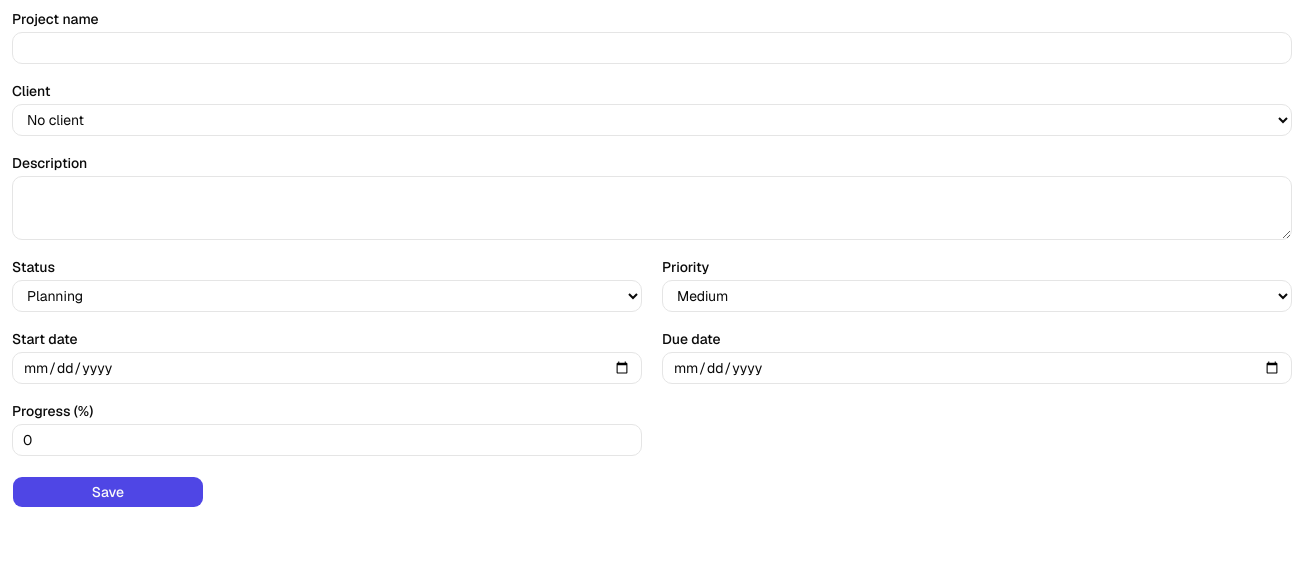
Scenario: ProjectForm › shows server errors next to the fields and at the top
Click the button "Save" at {"x": 108, "y": 492}, box [12, 476, 204, 508]
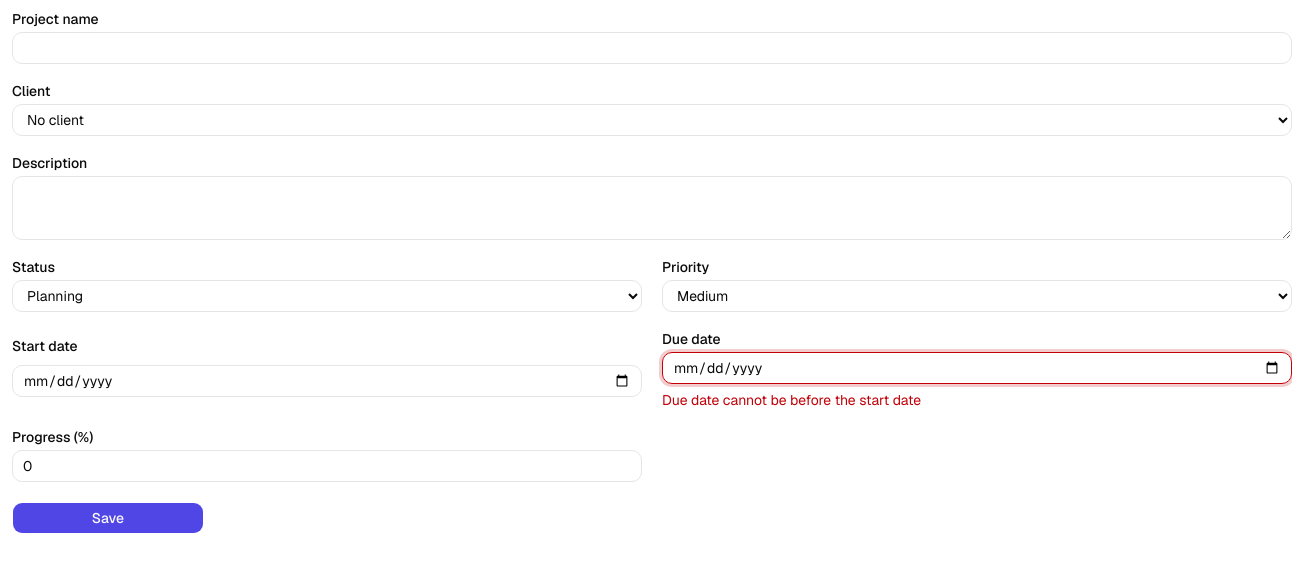
Result: the text "Due date cannot be before the start date" is shown at [662, 391, 921, 409]
Click the button "Save" at {"x": 108, "y": 518}, box [12, 502, 204, 534]
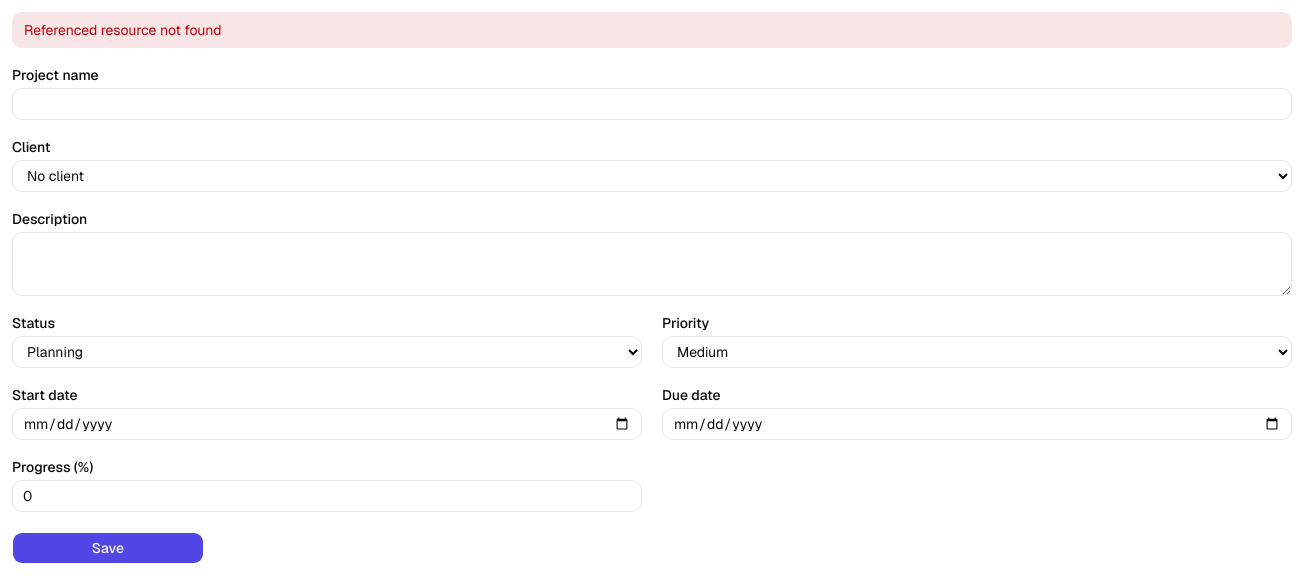
Result: the message reads "Referenced resource not found" at [24, 21, 222, 39]
